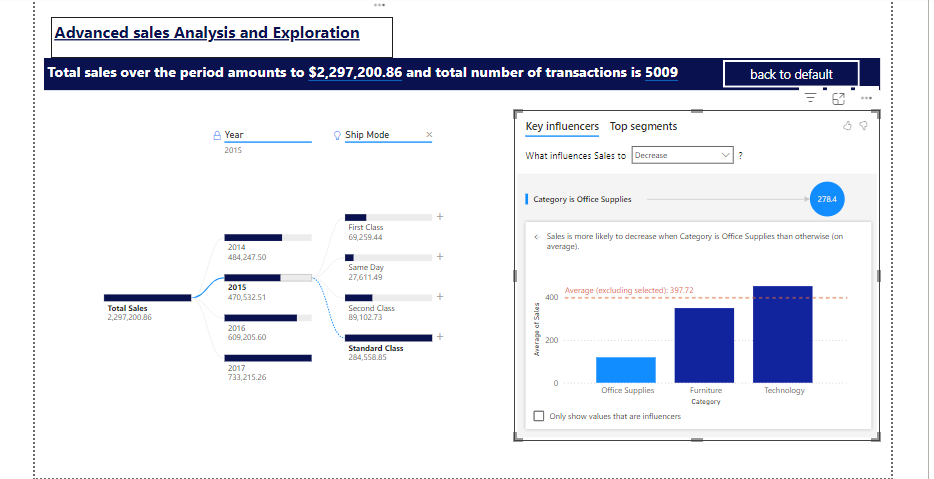

The dashboard page shown, as its layout file describes it:
{"tool":"powerbi","page":{"name":"Advanced analysis","canvas":[1280,720],"ordinal":2},"visuals":[{"type":"textbox","box":[23.9,31.4,510.9,61.2],"z":0},{"type":"textbox","box":[13.4,92.6,1248.8,47.8],"z":1000},{"type":"keyDriversVisual","fields":{"Target":["Orders.Sales"],"ExplainBy":["Orders.Category","Orders.City","Orders.Region","Orders.Segment","Orders.State","Orders.Sub-Category"]},"box":[715.5,170.3,546.7,494.4],"z":2000},{"type":"actionButton","title":"go back to deafult","box":[1027.2,95,204.4,41.2],"z":4000},{"type":"decompositionTreeVisual","fields":{"Analyze":["Sum(Orders.Sales)"],"ExplainBy":["Orders.Order Date.Variation.Date Hierarchy.Year","Orders.Ship Mode","Orders.Order Date.Variation.Date Hierarchy.Quarter","Orders.Order Date.Variation.Date Hierarchy.Month","Orders.Region","Orders.Segment","Orders.State","Orders.Sub-Category","Orders.Category","Orders.City"]},"box":[73.2,182.2,566.1,515.4],"z":5000}]}

Visuals, with their boxes on the page's 1280x720 design canvas (x1, y1, x2, y2). These are canvas units, not pixel positions in the 934x479 screenshot, which may show the page scaled, cropped or inside an application window:
textbox: bbox=[24, 31, 535, 93]
textbox: bbox=[13, 93, 1262, 140]
keyDriversVisual - Orders.Sales x Orders.Category: bbox=[716, 170, 1262, 665]
"go back to deafult" actionButton: bbox=[1027, 95, 1232, 136]
decompositionTreeVisual - Sum(Orders.Sales) x Orders.Order Date.Variation.Date Hierarchy.Year: bbox=[73, 182, 639, 698]
